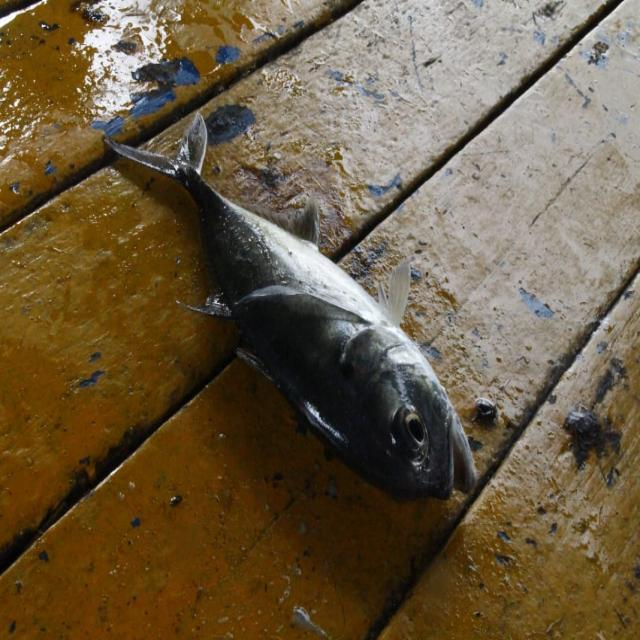ikan: (93, 88, 504, 522)
